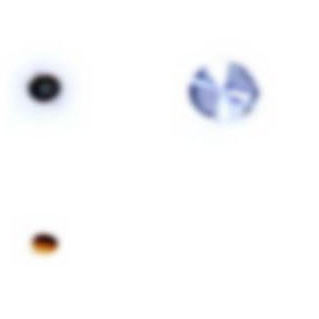abnormal: (178, 46, 276, 135)
cancer: (12, 61, 83, 123)
normal: (20, 217, 75, 265)
